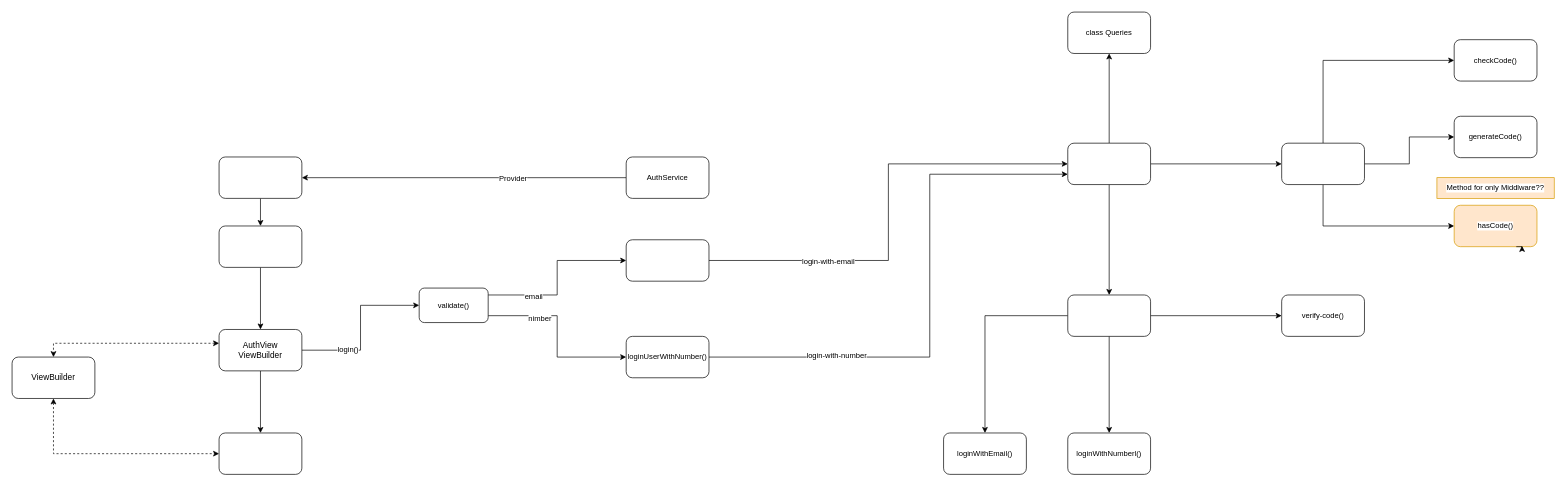
Image size: 1566x486. Some labels were removed from this diagram. The shapes that lost their labels are listed below. From the top down, each one's centre as x and y in pixels, then its label:
At point 260,177: "main.py".
At point 1109,163: "BackendServer main() router()->middleware()->handler()".
At point 1322,163: "class Codes".
At point 260,246: "MyApp MaterialApp".
At point 667,260: "loginUserWithEmail()".
At point 1109,315: "class Handlers".
At point 260,453: "RegisterView ViewBuilder".
